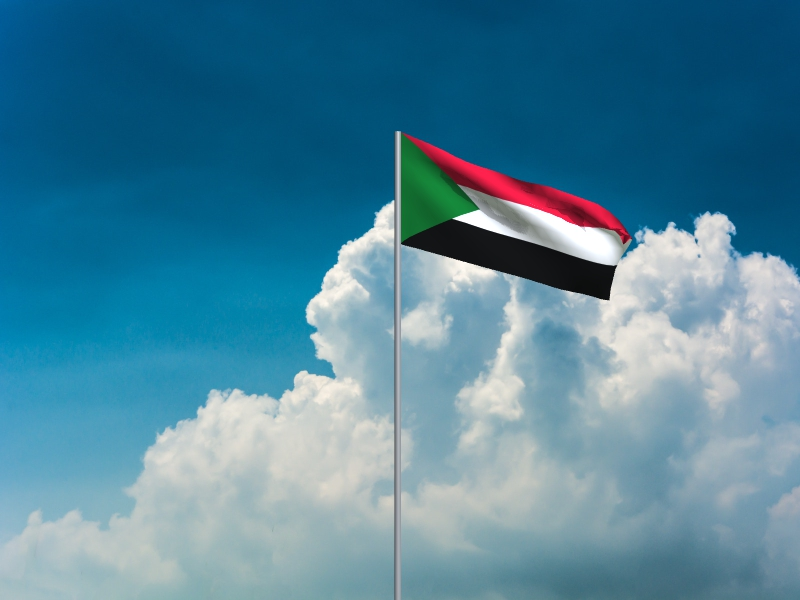sd: (402, 134, 634, 302)
